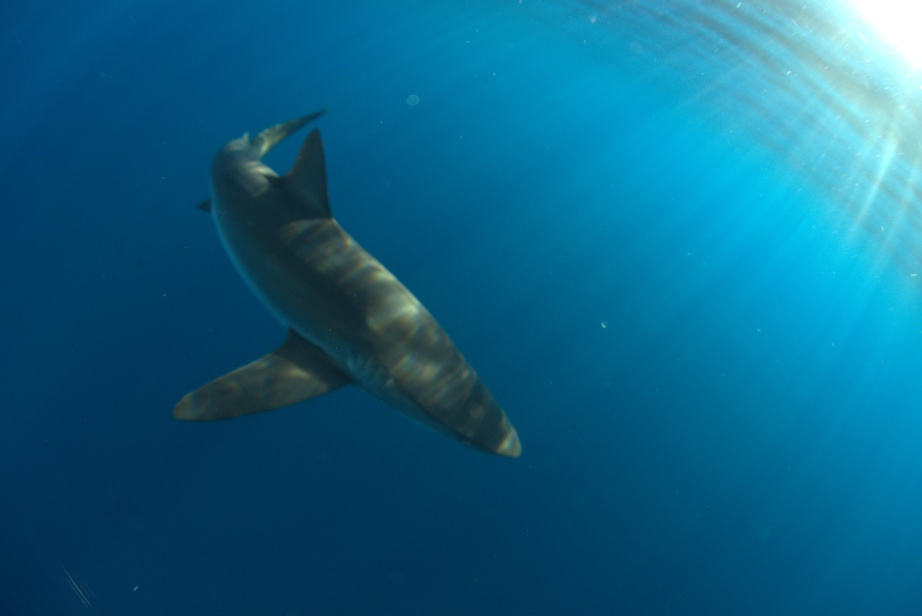Sedoso: (153, 95, 540, 483)
